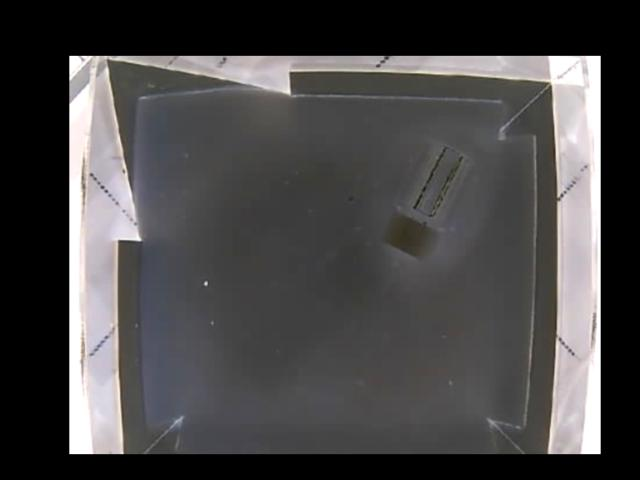Bottle: (381, 143, 475, 262)
